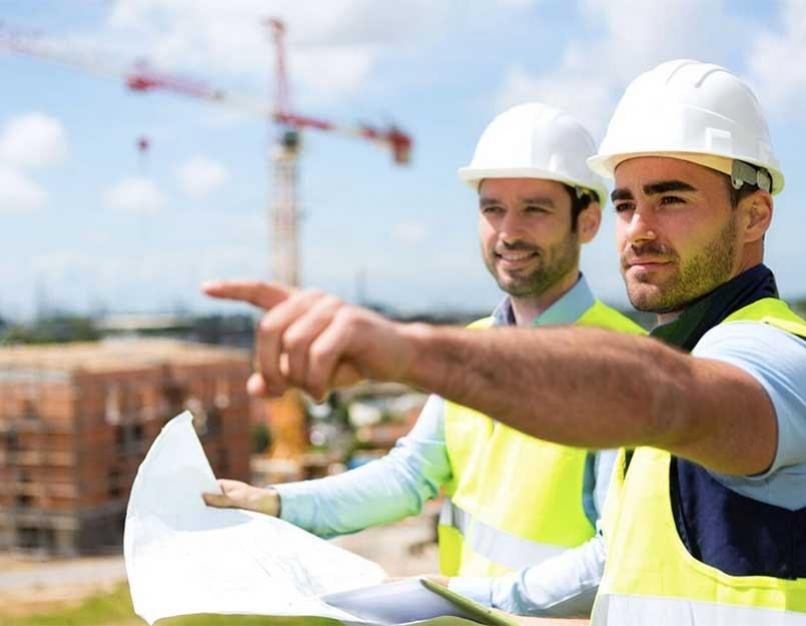Helmet: (603, 54, 793, 186), (460, 93, 600, 203)
Jacket: (596, 316, 806, 626), (440, 310, 613, 626)
